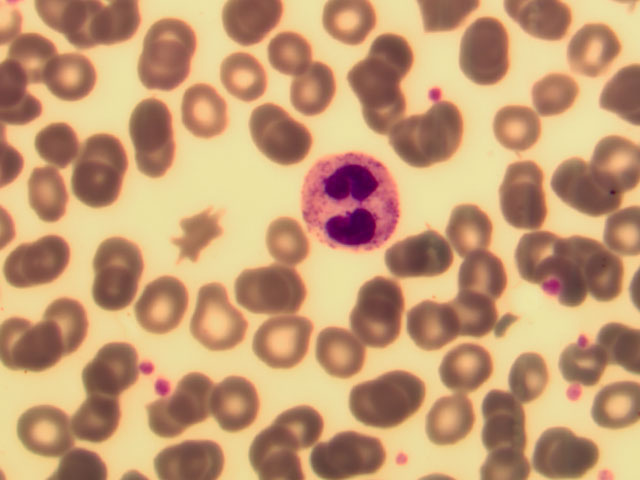Platelets: (593, 462, 619, 480), (561, 383, 585, 400), (541, 281, 562, 294), (430, 82, 444, 101), (151, 379, 173, 391), (395, 454, 409, 467), (578, 335, 592, 347), (140, 363, 154, 372)
RBC: (220, 1, 279, 47), (594, 385, 640, 432), (51, 53, 97, 99), (8, 32, 54, 78), (34, 121, 80, 167), (27, 169, 73, 215), (72, 161, 118, 207), (85, 133, 131, 179), (126, 140, 172, 186), (134, 106, 180, 152), (140, 56, 186, 102), (144, 18, 190, 64), (177, 88, 223, 134), (214, 51, 260, 97), (263, 25, 309, 71), (296, 71, 342, 117), (270, 123, 316, 169), (244, 98, 290, 144), (354, 87, 400, 133), (354, 59, 400, 105), (375, 29, 421, 75), (462, 19, 508, 65), (461, 50, 507, 96), (534, 68, 580, 114), (569, 26, 615, 72), (493, 103, 539, 149), (421, 104, 467, 150), (394, 120, 440, 166), (500, 150, 546, 196), (501, 181, 547, 227), (550, 158, 596, 204), (580, 179, 626, 225), (592, 128, 638, 174), (594, 212, 640, 258), (591, 254, 637, 300), (562, 225, 608, 271), (517, 224, 563, 270), (457, 249, 503, 295), (451, 205, 497, 251), (418, 230, 464, 276), (384, 234, 430, 280), (352, 268, 398, 314), (346, 308, 392, 354), (320, 329, 366, 375), (252, 321, 298, 367), (236, 268, 282, 314), (264, 267, 310, 313), (265, 215, 311, 261), (198, 293, 244, 339), (132, 286, 178, 332), (88, 265, 134, 311), (98, 230, 144, 276), (49, 300, 95, 346), (20, 326, 66, 372), (36, 234, 82, 280), (93, 338, 139, 384), (72, 369, 118, 415), (74, 400, 120, 446), (17, 407, 63, 453), (147, 401, 193, 447), (174, 374, 220, 420), (210, 378, 256, 424), (280, 398, 326, 444), (244, 424, 290, 470), (307, 434, 353, 480), (345, 434, 391, 480), (358, 382, 404, 428), (383, 368, 429, 414), (423, 402, 469, 448), (437, 344, 483, 390), (410, 303, 456, 349), (446, 293, 492, 339), (499, 355, 545, 401), (476, 382, 522, 428), (476, 416, 522, 462), (522, 428, 568, 474), (555, 434, 601, 480), (326, 1, 372, 46), (96, 1, 142, 46), (56, 1, 102, 46), (1, 239, 46, 285)
WBC: (302, 146, 405, 250)
